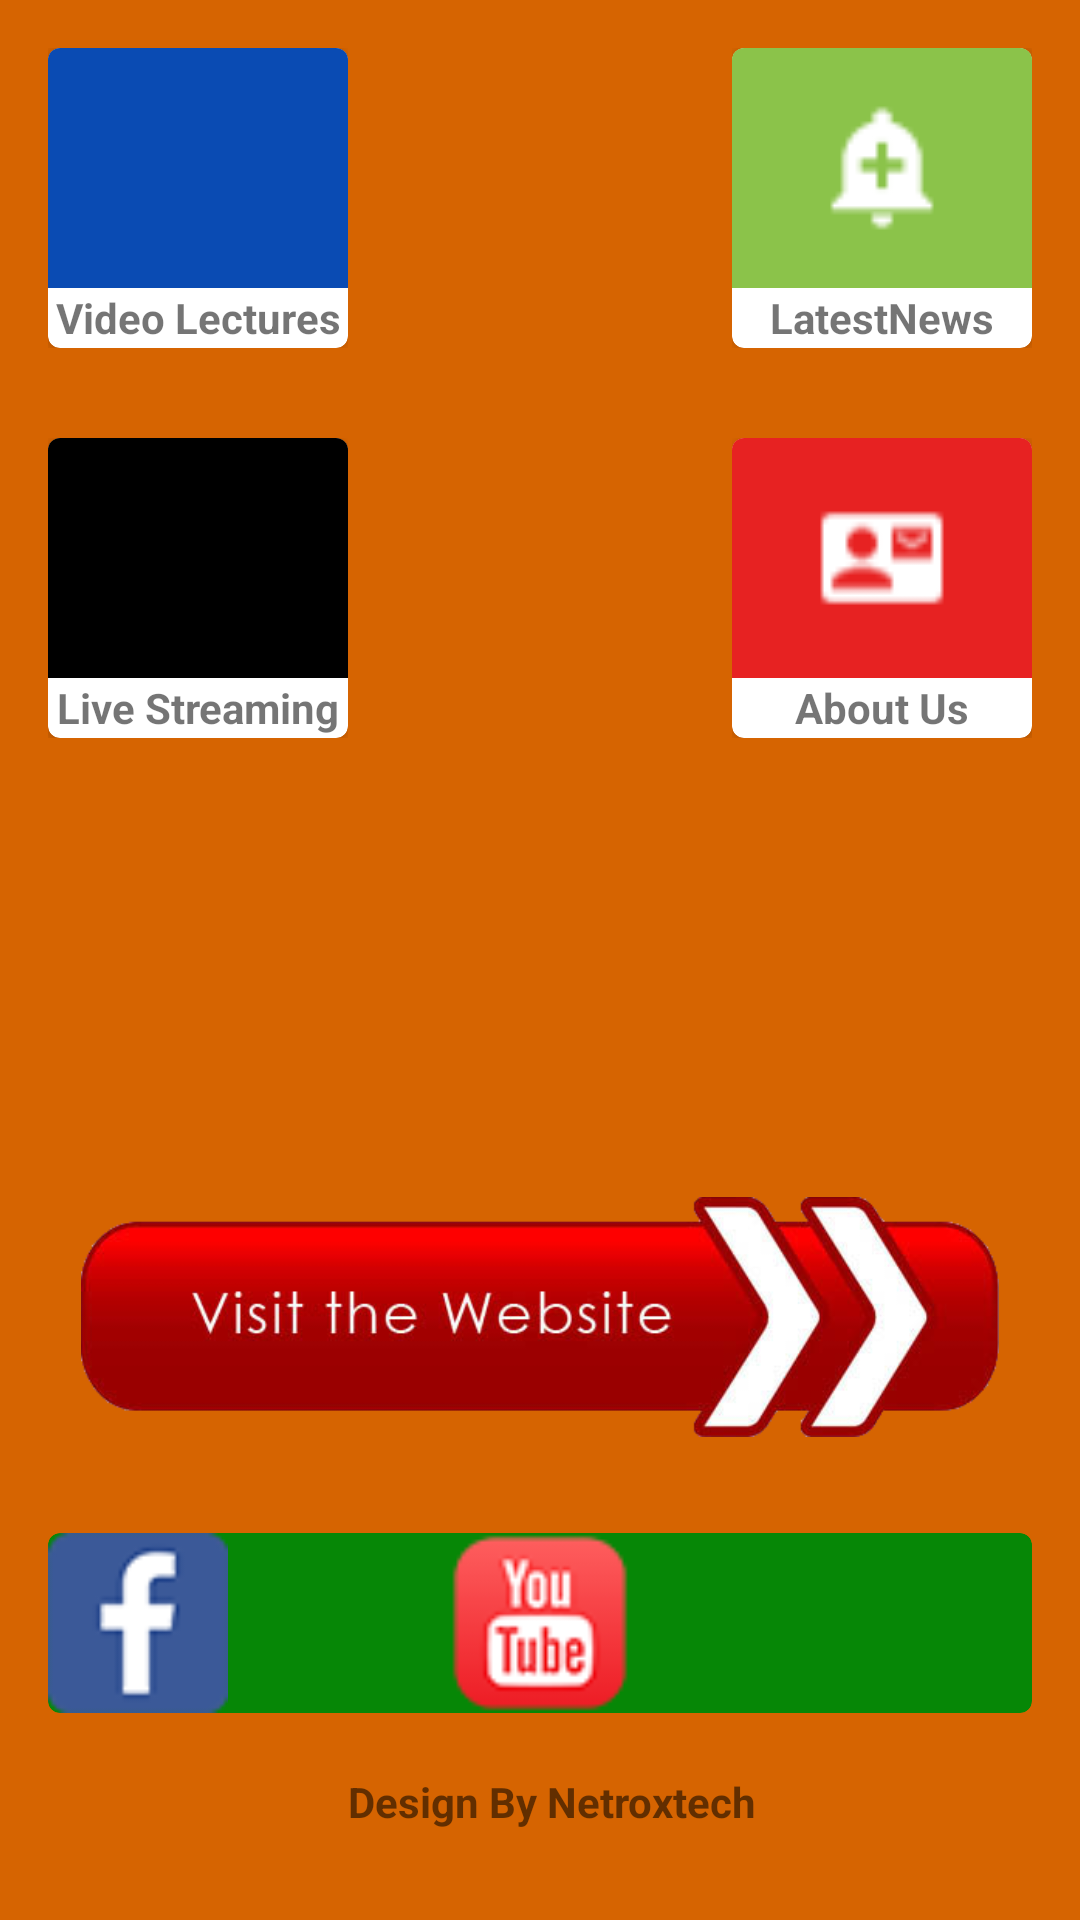

Icon click points for this 1080×1920 phone screenshot, format point (x, y):
add alert: point (882, 168)
contact mail: point (882, 558)
